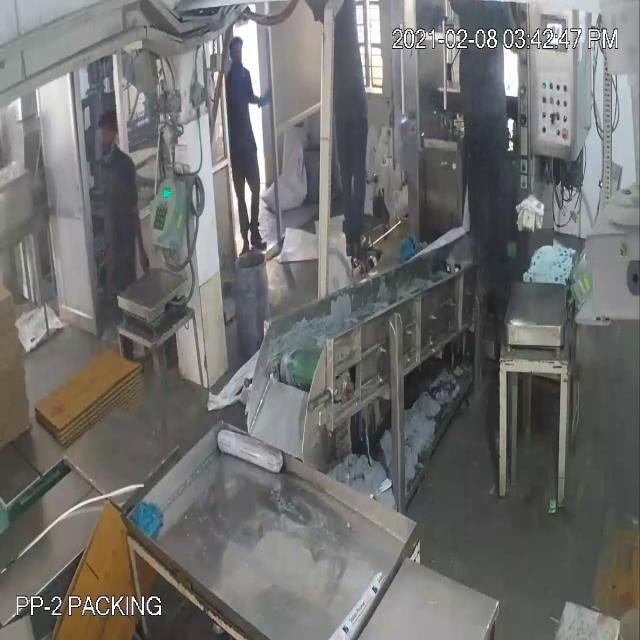No_Gloves: (17, 42, 266, 228)
